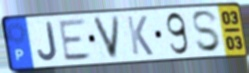9: (164, 11, 190, 56)
E: (57, 17, 94, 63)
J: (36, 20, 59, 63)
K: (125, 15, 155, 57)
S: (190, 9, 223, 55)
V: (90, 14, 122, 61)
